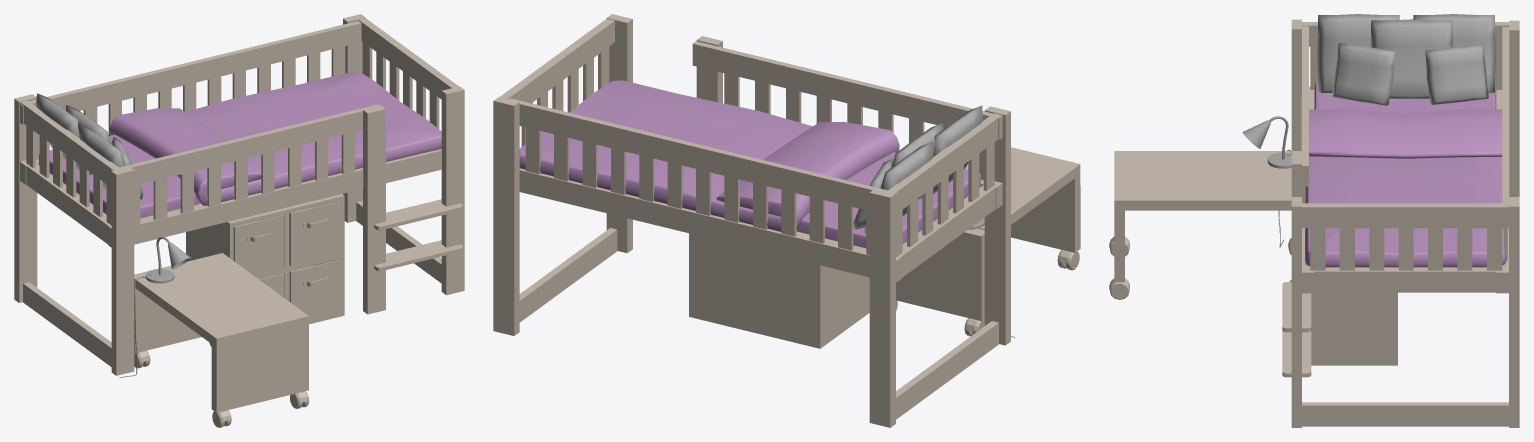
The model's file is SM_Room_Bed.fbx.
3 views of the same model, side by side, from view 1: azimuth 30°, elevation 25°; view 2: azimuth 150°, elevation 25°; view 3: azimuth 270°, elevation 25° (orthographic). The views are drawn at different scales.
Parts seen in each view (by area): view 1: Bed_wood, Mattress, Office, Bureau, caseBlock, case_02, case_01, case_04, cushion, Light_office; view 2: Bed_wood, Mattress, caseBlock, Office, cushion, Bureau; view 3: Bed_wood, Mattress, cushion, Office, caseBlock, Light_office.
Boxes of the visible parts, <box> form: Bed_wood: <box>14,14,464,375</box>; Mattress: <box>39,71,441,218</box>; Office: <box>134,253,309,427</box>; Bureau: <box>135,259,303,353</box>; caseBlock: <box>186,194,344,324</box>; case_02: <box>289,201,340,266</box>; case_01: <box>233,214,284,275</box>; case_04: <box>289,259,340,320</box>; cushion: <box>36,93,143,199</box>; Light_office: <box>119,236,190,377</box>; Bed_wood: <box>493,14,1010,427</box>; Mattress: <box>519,80,980,248</box>; caseBlock: <box>689,233,869,348</box>; Office: <box>896,147,1080,336</box>; cushion: <box>853,105,982,235</box>; Bureau: <box>907,152,1062,335</box>; Bed_wood: <box>1282,19,1519,427</box>; Mattress: <box>1305,82,1506,267</box>; cushion: <box>1317,14,1495,105</box>; Office: <box>1109,151,1301,299</box>; caseBlock: <box>1311,292,1397,365</box>; Light_office: <box>1242,116,1293,247</box>.
Size of the model in its own units: 3.31 by 1.93 by 3.06.
